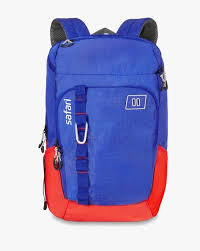backpack: (39, 16, 168, 222)
